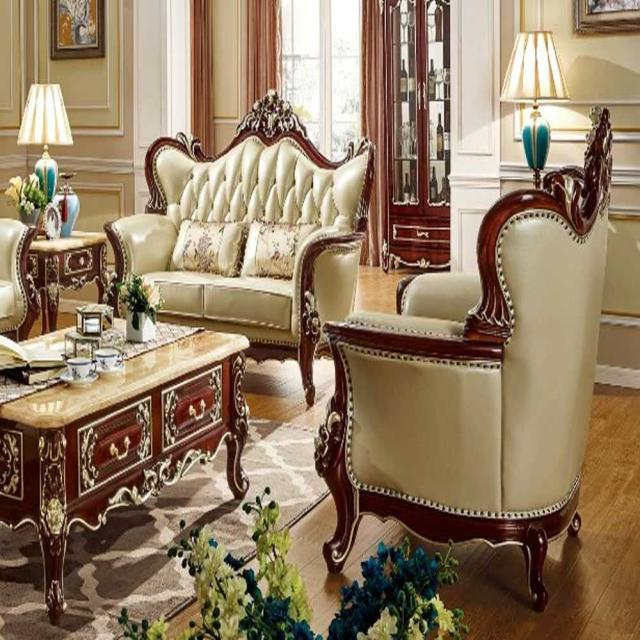sofa: (310, 108, 621, 607), (103, 88, 375, 406)
